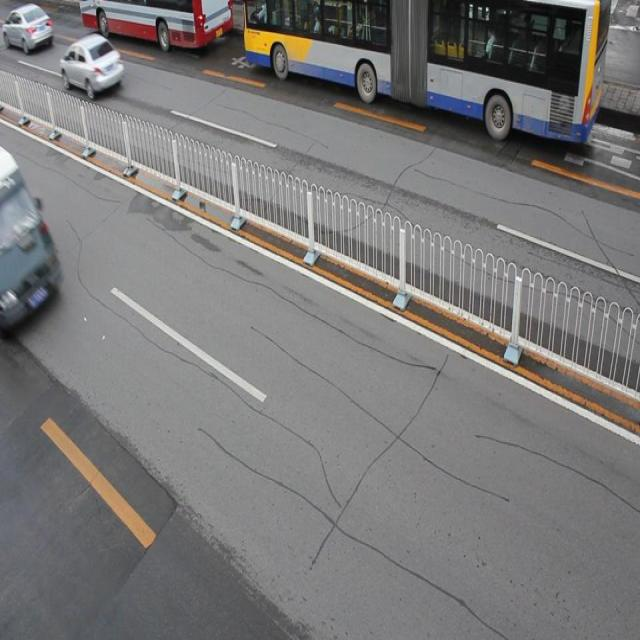car: (62, 34, 123, 98), (1, 1, 54, 56)
truck: (1, 150, 64, 330)
van: (243, 1, 608, 146), (80, 1, 232, 46)
